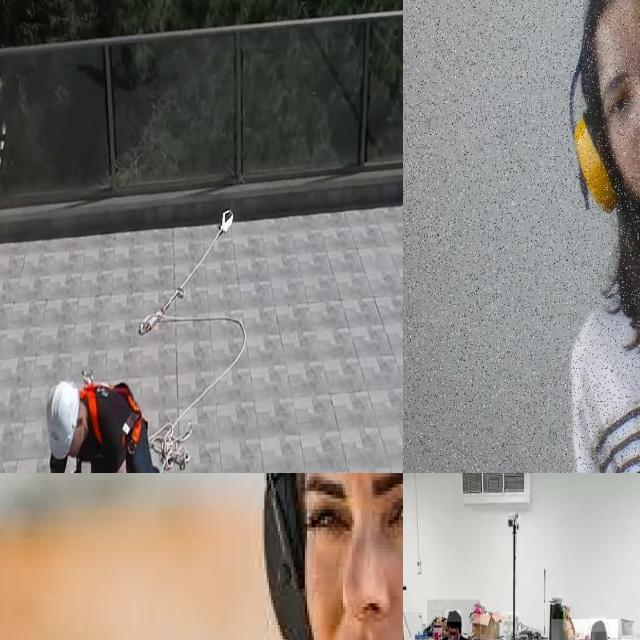Ear-protection: (234, 473, 403, 640), (539, 0, 640, 263)
Harness: (139, 210, 232, 336), (79, 372, 143, 454)
face_mask: (588, 632, 601, 640)
head_nohelmet: (446, 609, 462, 623), (590, 618, 606, 632)
person: (427, 599, 480, 640)
